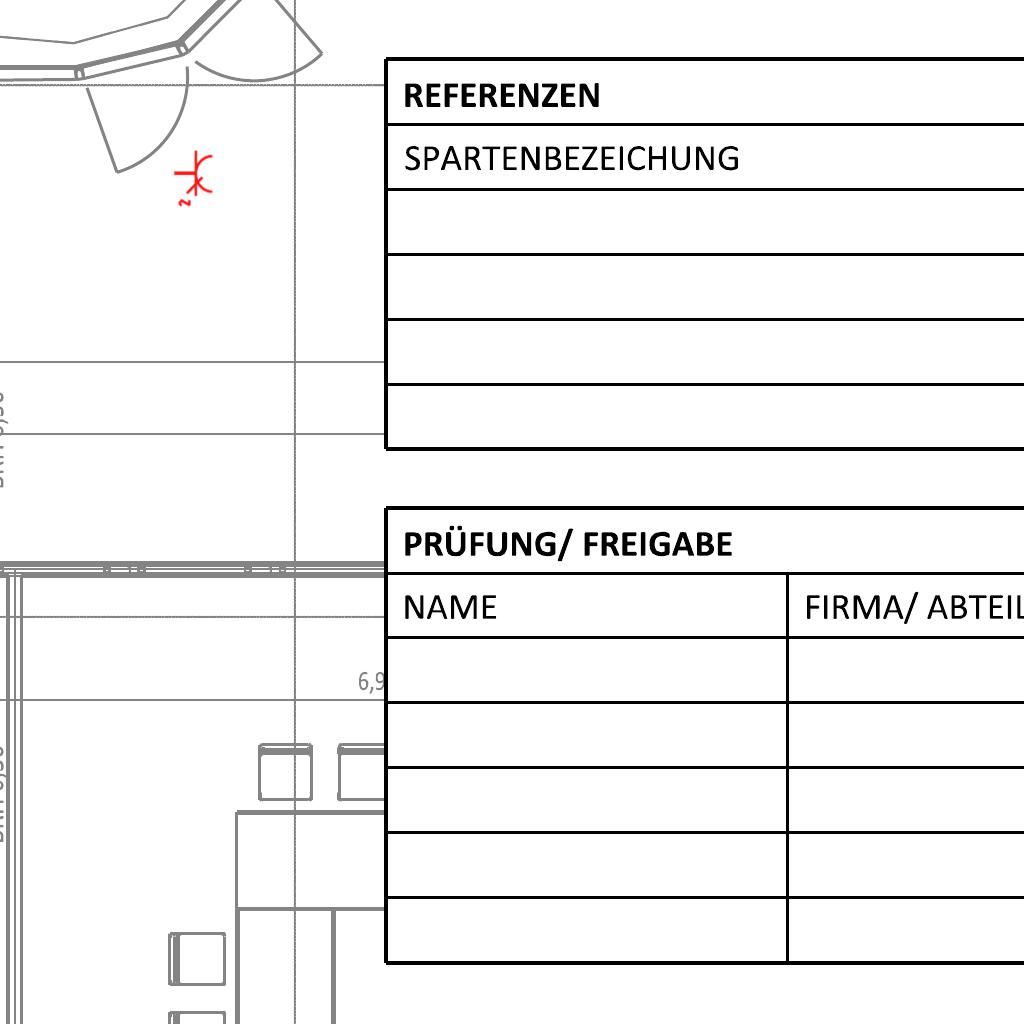Schukosteckdose_mehrfach: (171, 148, 215, 208)
